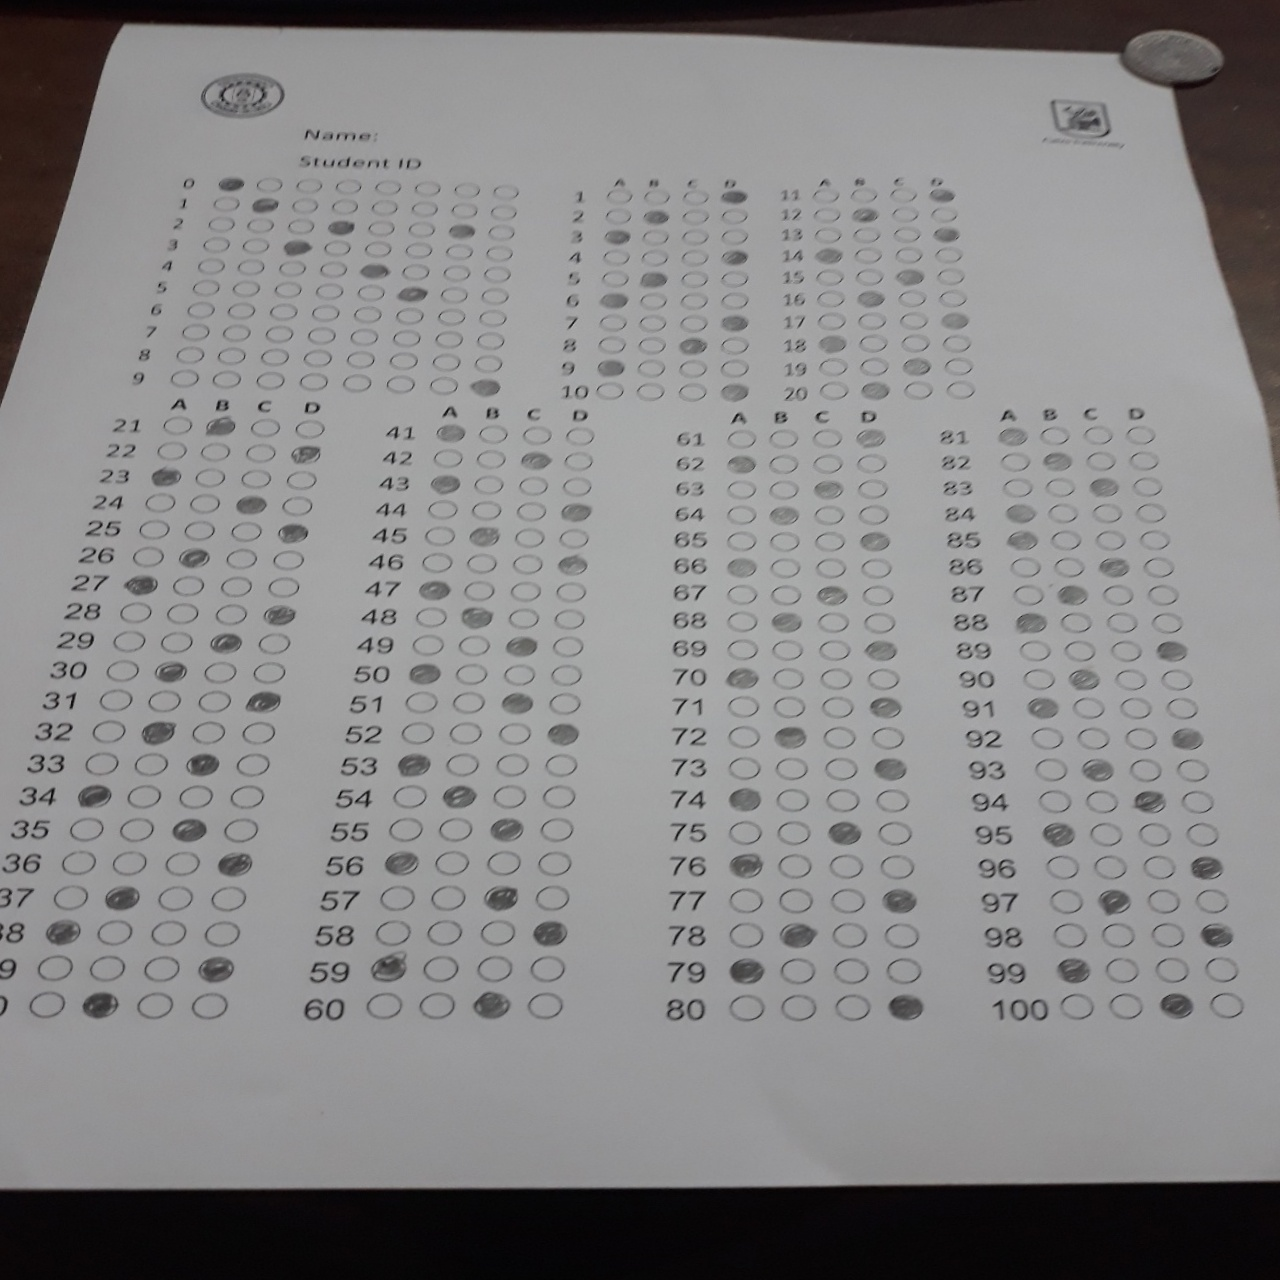not-c: (445, 716, 485, 744), (89, 953, 130, 980), (220, 816, 261, 843), (375, 918, 416, 945), (418, 954, 459, 981), (424, 917, 465, 944), (433, 847, 474, 874), (440, 753, 481, 779), (203, 917, 240, 946), (145, 686, 188, 712), (828, 851, 866, 879), (726, 721, 764, 749), (234, 750, 274, 777), (250, 658, 290, 685), (254, 629, 294, 656), (416, 990, 456, 1017), (429, 884, 469, 911), (436, 817, 476, 844), (452, 658, 492, 685), (878, 855, 918, 881), (779, 956, 819, 983), (726, 920, 765, 947), (771, 785, 811, 812), (137, 990, 173, 1020), (59, 849, 100, 874), (111, 849, 152, 874), (234, 720, 275, 745), (450, 687, 491, 713), (210, 885, 247, 913), (777, 850, 815, 878), (824, 785, 862, 813), (367, 992, 406, 1019), (881, 920, 920, 947), (887, 956, 926, 983), (728, 993, 767, 1020), (831, 956, 870, 983), (727, 886, 765, 913), (778, 887, 817, 914), (832, 924, 871, 951), (728, 753, 767, 779), (819, 724, 858, 751), (131, 750, 173, 775), (193, 988, 229, 1017), (124, 782, 164, 808), (158, 628, 198, 654), (229, 782, 268, 808), (454, 632, 493, 658), (459, 577, 499, 602), (779, 995, 819, 1021), (772, 754, 812, 779), (822, 755, 862, 781), (832, 994, 870, 1021), (818, 694, 856, 721), (813, 663, 851, 690), (49, 883, 90, 907), (25, 992, 66, 1016), (94, 921, 135, 946), (876, 821, 914, 846), (829, 886, 867, 912), (775, 818, 813, 844), (727, 819, 765, 845), (769, 694, 808, 720), (726, 693, 764, 719), (121, 817, 161, 842), (1046, 887, 1085, 912), (1057, 993, 1097, 1017), (1103, 956, 1143, 981), (1084, 788, 1124, 812), (1058, 638, 1098, 662), (811, 553, 847, 580), (813, 610, 851, 635), (724, 526, 762, 552), (768, 554, 805, 580), (810, 501, 847, 526), (1150, 611, 1187, 636), (64, 817, 105, 840), (35, 954, 76, 978), (149, 920, 188, 945), (278, 495, 316, 519), (474, 955, 512, 980), (526, 955, 565, 980), (815, 636, 853, 661), (1107, 993, 1145, 1017), (1088, 823, 1126, 847), (771, 663, 806, 690), (769, 636, 805, 662), (724, 607, 761, 633), (809, 527, 845, 553), (1208, 992, 1245, 1017), (1177, 757, 1213, 783), (1129, 447, 1165, 472), (270, 546, 309, 570), (379, 885, 418, 908), (1050, 922, 1090, 946), (1098, 922, 1138, 946), (1074, 726, 1114, 749), (1058, 610, 1098, 633), (1047, 527, 1087, 551), (408, 631, 445, 655), (533, 886, 571, 911), (485, 850, 523, 874), (724, 635, 762, 660), (282, 467, 321, 490), (388, 817, 427, 840), (468, 498, 506, 522), (535, 852, 573, 876), (1044, 856, 1083, 879), (1092, 856, 1131, 879), (1068, 696, 1107, 720), (1142, 855, 1177, 880), (1146, 887, 1182, 913), (1156, 956, 1191, 982), (1204, 956, 1239, 982), (1186, 821, 1221, 846), (1166, 697, 1201, 723), (1146, 580, 1182, 606), (266, 574, 302, 599), (471, 472, 508, 497), (527, 992, 564, 1016), (724, 580, 761, 605), (771, 581, 808, 606), (767, 527, 803, 552), (1182, 789, 1218, 813), (1142, 556, 1178, 580), (1136, 527, 1172, 552), (1130, 474, 1166, 498), (1046, 499, 1085, 522), (157, 886, 195, 910), (144, 956, 182, 980), (463, 550, 501, 573), (474, 444, 511, 468), (481, 920, 518, 944), (1048, 556, 1085, 579), (1135, 823, 1172, 846), (1194, 887, 1228, 913), (186, 488, 222, 512), (199, 687, 234, 712), (1151, 922, 1186, 947), (1160, 668, 1196, 693), (399, 722, 437, 744), (876, 790, 914, 812), (1092, 526, 1131, 549), (1099, 581, 1138, 604), (1107, 639, 1145, 661), (244, 438, 280, 462), (430, 447, 467, 470), (424, 522, 461, 545), (403, 690, 440, 714), (1133, 501, 1170, 524), (291, 415, 328, 437), (425, 498, 463, 520), (413, 607, 450, 629), (393, 784, 430, 806), (1082, 449, 1119, 471), (1105, 612, 1143, 634), (1112, 668, 1150, 690), (1123, 728, 1160, 750), (182, 517, 217, 540), (199, 440, 234, 463), (248, 414, 284, 437), (225, 545, 260, 568), (213, 602, 248, 626), (203, 660, 238, 683), (193, 720, 229, 743), (165, 851, 200, 874), (1125, 420, 1160, 443), (226, 519, 263, 542), (219, 574, 256, 597), (416, 550, 452, 572), (516, 474, 552, 496), (723, 477, 760, 499), (1119, 697, 1156, 720), (195, 463, 229, 486), (515, 423, 552, 444), (551, 608, 588, 629), (1091, 502, 1129, 523), (1126, 760, 1164, 781), (165, 601, 200, 624), (170, 573, 205, 595), (239, 464, 274, 486), (177, 785, 212, 808), (560, 475, 595, 497), (764, 478, 799, 501), (765, 425, 801, 448), (724, 425, 760, 448), (1017, 639, 1053, 661), (132, 545, 165, 568), (93, 720, 125, 743), (477, 423, 513, 444), (512, 526, 549, 547), (509, 554, 545, 576), (511, 579, 547, 600), (556, 527, 592, 549), (551, 635, 587, 656), (549, 663, 585, 685), (502, 663, 538, 685), (811, 452, 847, 474), (763, 452, 799, 474), (1021, 668, 1057, 689), (1035, 758, 1071, 779), (1078, 424, 1115, 445), (137, 518, 171, 540), (105, 658, 139, 680), (98, 689, 132, 712), (543, 754, 577, 776), (492, 787, 526, 809), (542, 784, 576, 806), (540, 818, 574, 840), (545, 692, 583, 712), (1040, 425, 1077, 445), (495, 753, 530, 774), (726, 503, 761, 524), (812, 425, 847, 447), (1030, 728, 1065, 749), (1039, 791, 1074, 812), (118, 600, 151, 622), (113, 629, 145, 652), (564, 423, 600, 443), (515, 501, 551, 520), (503, 608, 539, 628), (556, 580, 592, 600), (1046, 476, 1080, 497), (862, 556, 892, 579), (856, 451, 887, 474), (857, 504, 888, 526), (560, 448, 595, 468), (866, 668, 901, 688), (86, 753, 118, 774), (999, 450, 1029, 472), (1005, 475, 1035, 497), (498, 724, 532, 744), (862, 611, 896, 631), (858, 479, 890, 501), (860, 585, 896, 604), (1012, 557, 1042, 578), (1012, 586, 1042, 607), (143, 492, 177, 511), (872, 728, 906, 747), (257, 369, 286, 390), (719, 290, 749, 309), (639, 290, 669, 309), (476, 331, 506, 350), (401, 261, 431, 281), (392, 328, 422, 348), (366, 215, 396, 234), (331, 197, 361, 217), (311, 304, 341, 324), (307, 324, 338, 343), (236, 257, 266, 277), (170, 368, 200, 388), (897, 312, 928, 331), (857, 311, 888, 329), (813, 184, 843, 204), (721, 360, 750, 380), (676, 358, 706, 377), (636, 358, 666, 377), (489, 200, 518, 220), (489, 222, 518, 241), (435, 329, 464, 349), (438, 282, 468, 302), (409, 218, 438, 238), (388, 350, 417, 370), (386, 372, 415, 392), (342, 372, 372, 392), (355, 282, 384, 302), (318, 261, 347, 281), (266, 324, 295, 343), (278, 257, 307, 277), (292, 195, 321, 215), (240, 236, 270, 256), (222, 322, 251, 342), (175, 343, 204, 363), (181, 322, 210, 342), (211, 192, 240, 212), (157, 440, 186, 459), (900, 380, 931, 399), (720, 206, 750, 225), (719, 226, 749, 245), (720, 335, 750, 354), (638, 336, 668, 355), (427, 375, 457, 394), (415, 178, 445, 197), (354, 305, 384, 324), (334, 176, 365, 195), (300, 372, 331, 390), (285, 216, 315, 234), (191, 278, 222, 297), (161, 414, 191, 433), (819, 312, 847, 332), (682, 248, 710, 268), (642, 226, 670, 246), (433, 350, 461, 370), (445, 241, 474, 261), (350, 327, 379, 347), (372, 175, 400, 195), (294, 173, 322, 193), (256, 175, 284, 195), (213, 369, 241, 389), (200, 234, 229, 254), (847, 184, 879, 202), (855, 268, 886, 286), (817, 290, 846, 308), (811, 225, 840, 244), (676, 382, 706, 401), (681, 291, 710, 309), (680, 268, 709, 287), (679, 227, 708, 246), (680, 206, 709, 225), (594, 382, 624, 401), (599, 312, 628, 331), (601, 268, 631, 287), (604, 184, 633, 203), (490, 182, 519, 200), (482, 264, 511, 282), (481, 287, 510, 306), (434, 308, 463, 327), (443, 261, 472, 280), (451, 198, 481, 217), (404, 239, 434, 258), (345, 349, 374, 368), (321, 238, 350, 257), (302, 349, 332, 368), (259, 346, 288, 365), (270, 301, 299, 320), (274, 279, 304, 298), (245, 216, 274, 234), (231, 279, 260, 298), (219, 346, 248, 365), (185, 301, 215, 320), (196, 256, 225, 274), (209, 215, 238, 233), (946, 381, 976, 399), (892, 223, 922, 240), (859, 358, 890, 375), (720, 268, 750, 286), (605, 206, 635, 224), (475, 354, 505, 372), (819, 381, 847, 400), (821, 356, 849, 375), (642, 247, 670, 266), (636, 314, 665, 333), (597, 335, 625, 354), (486, 244, 515, 263), (479, 308, 508, 327), (411, 199, 440, 218), (370, 195, 399, 213), (316, 284, 345, 302), (937, 290, 968, 306), (939, 334, 971, 350), (857, 335, 888, 352), (934, 266, 964, 284), (896, 245, 925, 263), (853, 246, 883, 264), (815, 268, 844, 286), (813, 205, 843, 223), (679, 314, 708, 332), (681, 188, 710, 205), (452, 178, 482, 196), (396, 306, 425, 324), (362, 238, 392, 256), (227, 301, 257, 319), (930, 205, 960, 222), (933, 246, 964, 263), (945, 358, 975, 374), (899, 334, 930, 350), (897, 290, 927, 306), (888, 205, 919, 222), (888, 185, 919, 202), (644, 188, 672, 205), (636, 382, 665, 400), (601, 246, 629, 264), (852, 227, 881, 244)
taken-c: (726, 852, 767, 880), (394, 750, 433, 779), (216, 849, 254, 878), (244, 688, 282, 717), (384, 847, 424, 876), (726, 785, 767, 812), (45, 917, 83, 945), (728, 956, 768, 983), (543, 720, 583, 747), (530, 920, 571, 946), (369, 954, 407, 982), (197, 955, 234, 983), (869, 757, 907, 784), (81, 990, 120, 1017), (1158, 990, 1196, 1017), (1056, 956, 1092, 983), (887, 993, 924, 1020), (866, 693, 903, 720), (1096, 888, 1133, 914), (881, 888, 919, 914), (862, 639, 899, 665), (482, 886, 519, 912), (415, 577, 452, 602), (486, 816, 523, 842), (472, 993, 509, 1019), (1040, 822, 1077, 846), (779, 922, 817, 947), (467, 524, 504, 549), (433, 420, 470, 444), (425, 472, 463, 496), (856, 530, 891, 554), (855, 425, 890, 450), (288, 441, 324, 465), (207, 631, 243, 655), (1198, 922, 1234, 946), (559, 501, 595, 524), (407, 661, 443, 685), (1039, 449, 1074, 472), (1003, 501, 1039, 524), (826, 821, 862, 844), (726, 666, 761, 689), (440, 785, 475, 809), (202, 414, 237, 437), (176, 546, 211, 570), (139, 722, 175, 745), (183, 753, 218, 776), (124, 572, 159, 595), (278, 520, 313, 544), (519, 449, 556, 471), (459, 607, 496, 629), (1058, 583, 1092, 606), (726, 556, 760, 579), (263, 602, 297, 626), (234, 493, 268, 517), (154, 660, 188, 683), (77, 784, 111, 808), (1007, 529, 1042, 551), (1024, 697, 1060, 720), (1133, 790, 1169, 812), (724, 452, 760, 475), (556, 553, 591, 576), (505, 635, 540, 658), (104, 886, 139, 908), (148, 464, 183, 486), (1155, 640, 1189, 662), (774, 726, 808, 748), (172, 818, 206, 840), (1096, 554, 1131, 576), (1085, 478, 1121, 499), (1012, 612, 1047, 633), (1081, 758, 1116, 779), (1170, 728, 1205, 749), (998, 427, 1032, 448), (1065, 670, 1099, 692), (1189, 857, 1223, 878), (771, 610, 802, 633), (813, 477, 845, 499), (815, 585, 846, 607), (768, 503, 799, 525), (501, 692, 533, 713), (470, 377, 501, 397), (598, 290, 627, 309), (639, 271, 669, 290), (448, 220, 478, 239), (719, 248, 747, 268), (813, 247, 843, 266), (601, 225, 631, 244), (595, 358, 625, 376), (360, 263, 389, 281), (251, 196, 280, 215), (216, 175, 245, 193), (860, 381, 888, 400), (720, 383, 749, 401), (399, 284, 425, 302), (938, 313, 971, 328), (720, 315, 750, 332), (903, 358, 931, 375), (856, 290, 884, 307), (852, 206, 880, 224), (819, 335, 847, 353), (719, 188, 747, 205), (679, 336, 707, 354), (326, 217, 354, 234), (282, 238, 311, 256), (926, 188, 958, 203), (644, 207, 670, 225), (930, 226, 960, 241), (896, 270, 926, 285)
